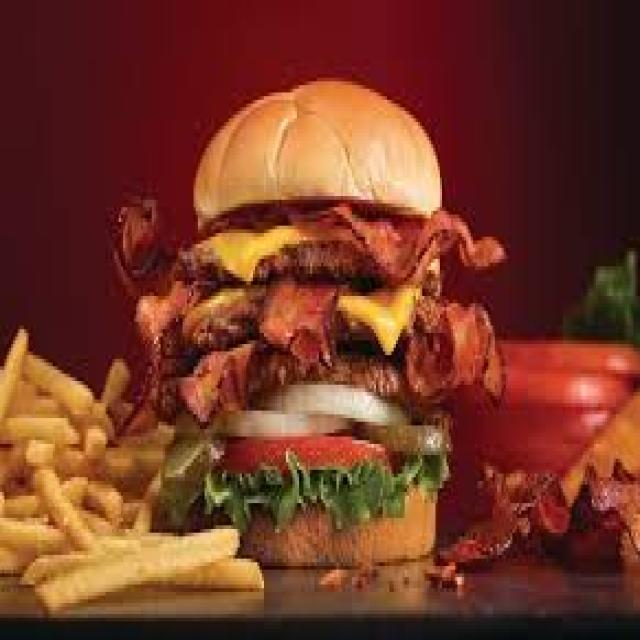Wet Waste: (158, 77, 483, 566)
